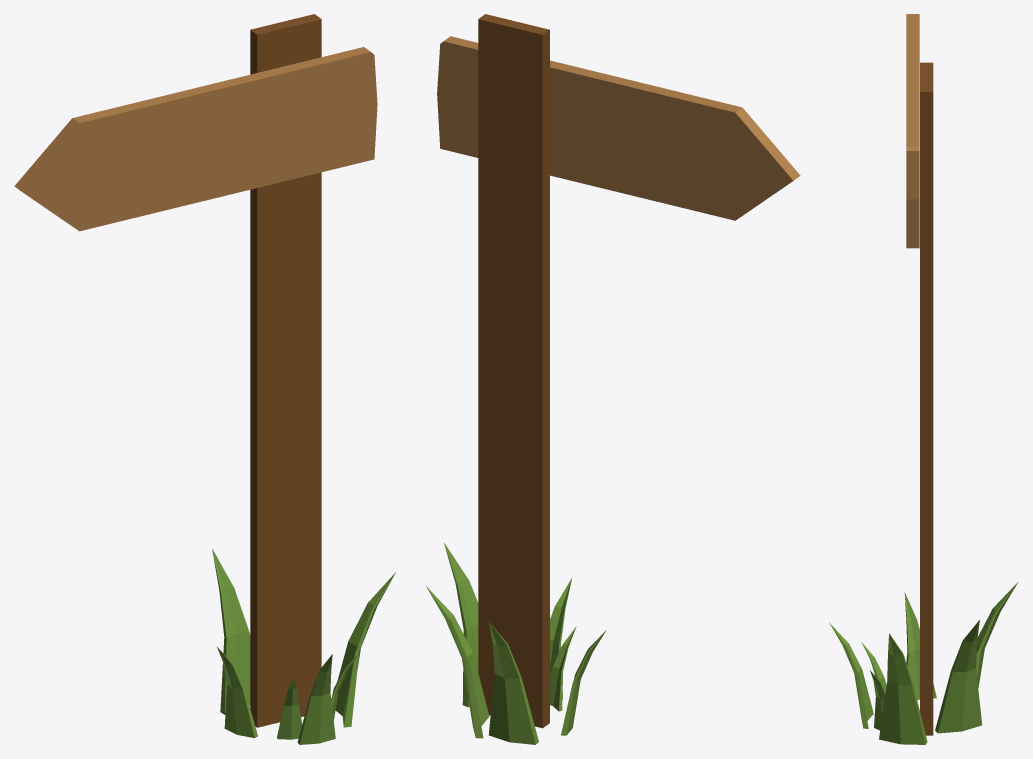
The model's file is Wooden Sign-GGbYyOmVCh.glb.
3 renders of one model, left to right at view 1: azimuth 30°, elevation 25°; view 2: azimuth 150°, elevation 25°; view 3: azimuth 270°, elevation 25°, orthographic. The views are drawn at different scales.
Visible parts, largest first — view 1: Wooden Sign-GGbYyOmVCh; view 2: Wooden Sign-GGbYyOmVCh; view 3: Wooden Sign-GGbYyOmVCh.
Boxes of the visible parts, x1,y1,x2,y2 form: Wooden Sign-GGbYyOmVCh: (14,14,396,744); Wooden Sign-GGbYyOmVCh: (426,14,800,744); Wooden Sign-GGbYyOmVCh: (829,14,1017,744).
Size of the model in its own units: 0.9064 by 1.64 by 0.4385.
